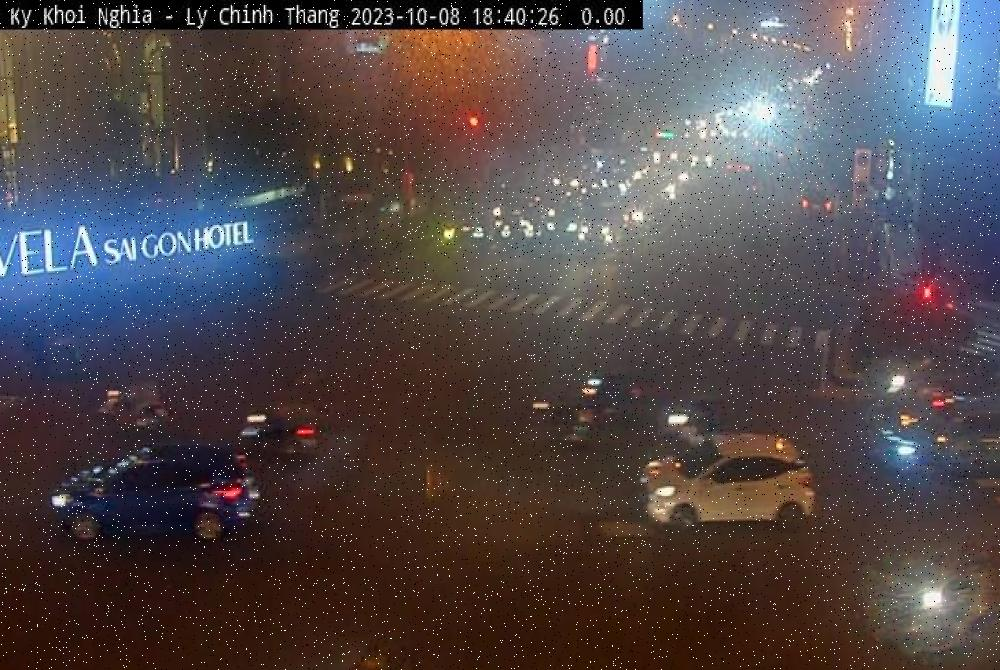car: (47, 426, 255, 568), (621, 429, 822, 568)
